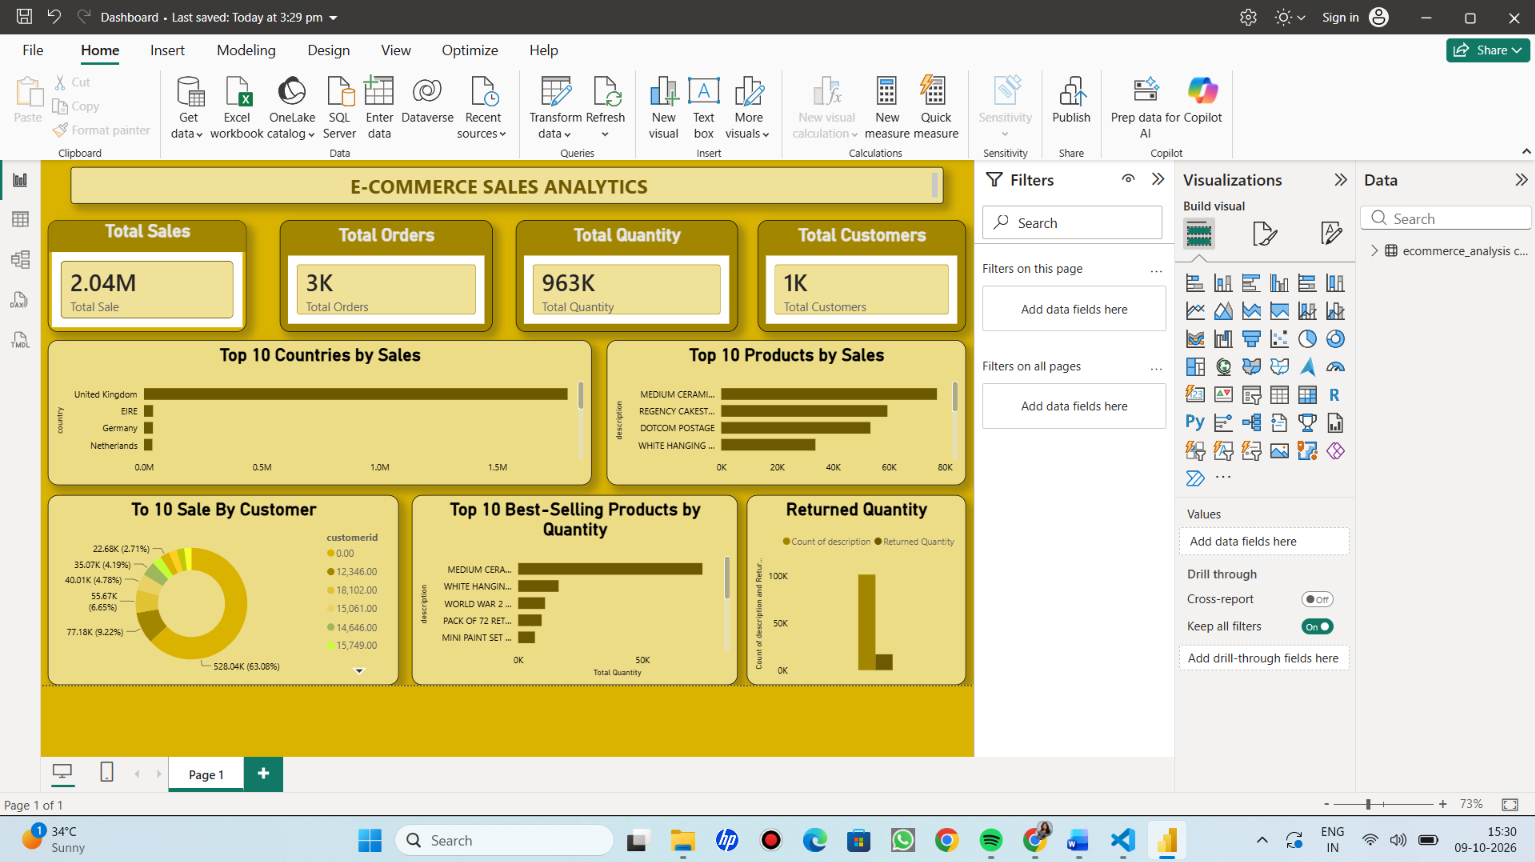

The dashboard page shown, as its layout file describes it:
{"tool":"powerbi","page":{"name":"Page 1","canvas":[1280,720],"ordinal":0},"visuals":[{"type":"cardVisual","title":"Total Sales","fields":{"Data":["ecommerce_analysis cleaned_ecommerce_data.Total Sale"]},"box":[9.6,82.3,273.1,153.7],"z":0},{"type":"cardVisual","title":"Total Orders","fields":{"Data":["ecommerce_analysis cleaned_ecommerce_data.Total Orders"]},"box":[328,82.3,292.3,153.7],"z":1000},{"type":"cardVisual","title":"Total Quantity","fields":{"Data":["ecommerce_analysis cleaned_ecommerce_data.Total Quantity"]},"box":[651.8,82.3,304.6,153.7],"z":2000},{"type":"cardVisual","title":"Total Customers","fields":{"Data":["ecommerce_analysis cleaned_ecommerce_data.Total Customers"]},"box":[983.9,82.3,285.4,153.7],"z":3000},{"type":"clusteredBarChart","title":"Top 10 Countries by Sales","fields":{"Category":["ecommerce_analysis cleaned_ecommerce_data.country"],"Y":["ecommerce_analysis cleaned_ecommerce_data.Total Sale"]},"box":[9.6,247,746.5,199],"z":4000},{"type":"clusteredBarChart","title":"Top 10 Products by Sales","fields":{"Category":["ecommerce_analysis cleaned_ecommerce_data.description"],"Y":["ecommerce_analysis cleaned_ecommerce_data.Total Sale"]},"box":[776.7,247,492.6,199],"z":5000},{"type":"barChart","title":"Top 10 Best-Selling Products by Quantity","fields":{"Category":["ecommerce_analysis cleaned_ecommerce_data.description"],"Y":["ecommerce_analysis cleaned_ecommerce_data.Total Quantity"]},"box":[509.1,459.7,447.3,260.7],"z":6000},{"type":"donutChart","title":"To 10 Sale By Customer","fields":{"Category":["ecommerce_analysis cleaned_ecommerce_data.customerid"],"Y":["ecommerce_analysis cleaned_ecommerce_data.Total Sale"]},"box":[10,460,481.9,260.6],"z":7000},{"type":"clusteredColumnChart","title":"Returned Quantity","fields":{"Y":["CountNonNull(ecommerce_analysis cleaned_ecommerce_data.description)","ecommerce_analysis cleaned_ecommerce_data.Returned Quantity"]},"box":[968.8,459.7,300.5,260.7],"z":8000},{"type":"textbox","box":[41.2,9.6,1197.9,50.8],"z":9000}]}

Visuals, with their boxes on the page's 1280x720 design canvas (x1, y1, x2, y2). These are canvas units, not pixel positions in the 1535x862 screenshot, which may show the page scaled, cropped or inside an application window:
"Total Sales" cardVisual: (x1=10, y1=82, x2=283, y2=236)
"Total Orders" cardVisual: (x1=328, y1=82, x2=620, y2=236)
"Total Quantity" cardVisual: (x1=652, y1=82, x2=956, y2=236)
"Total Customers" cardVisual: (x1=984, y1=82, x2=1269, y2=236)
"Top 10 Countries by Sales" clusteredBarChart: (x1=10, y1=247, x2=756, y2=446)
"Top 10 Products by Sales" clusteredBarChart: (x1=777, y1=247, x2=1269, y2=446)
"Top 10 Best-Selling Products by Quantity" barChart: (x1=509, y1=460, x2=956, y2=720)
"To 10 Sale By Customer" donutChart: (x1=10, y1=460, x2=492, y2=721)
"Returned Quantity" clusteredColumnChart: (x1=969, y1=460, x2=1269, y2=720)
textbox: (x1=41, y1=10, x2=1239, y2=60)
